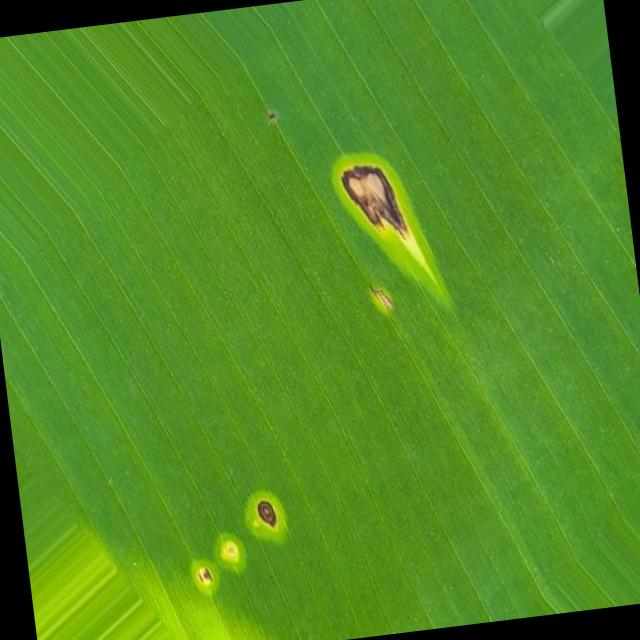Banana_Black_Sigatoka: (141, 395, 331, 640), (275, 125, 455, 316)
